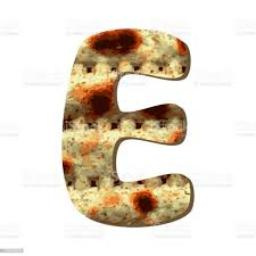e: (65, 30, 199, 234)
